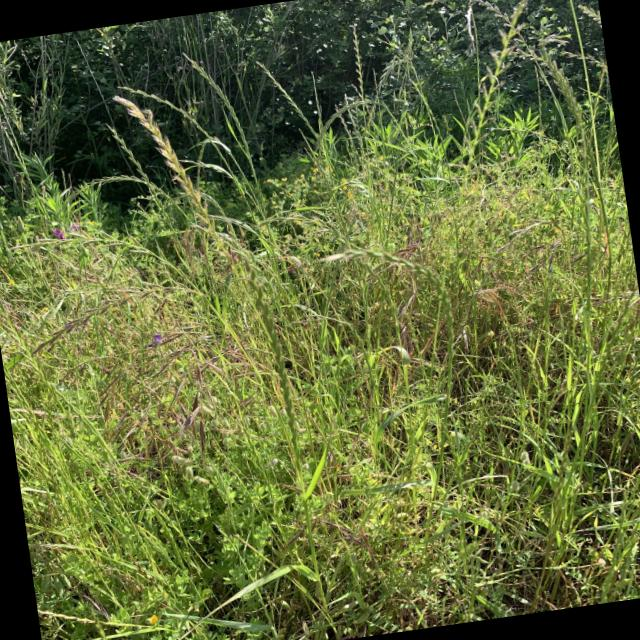Lolium: (0, 0, 640, 640), (100, 70, 323, 462), (375, 0, 590, 398), (285, 54, 377, 278)
